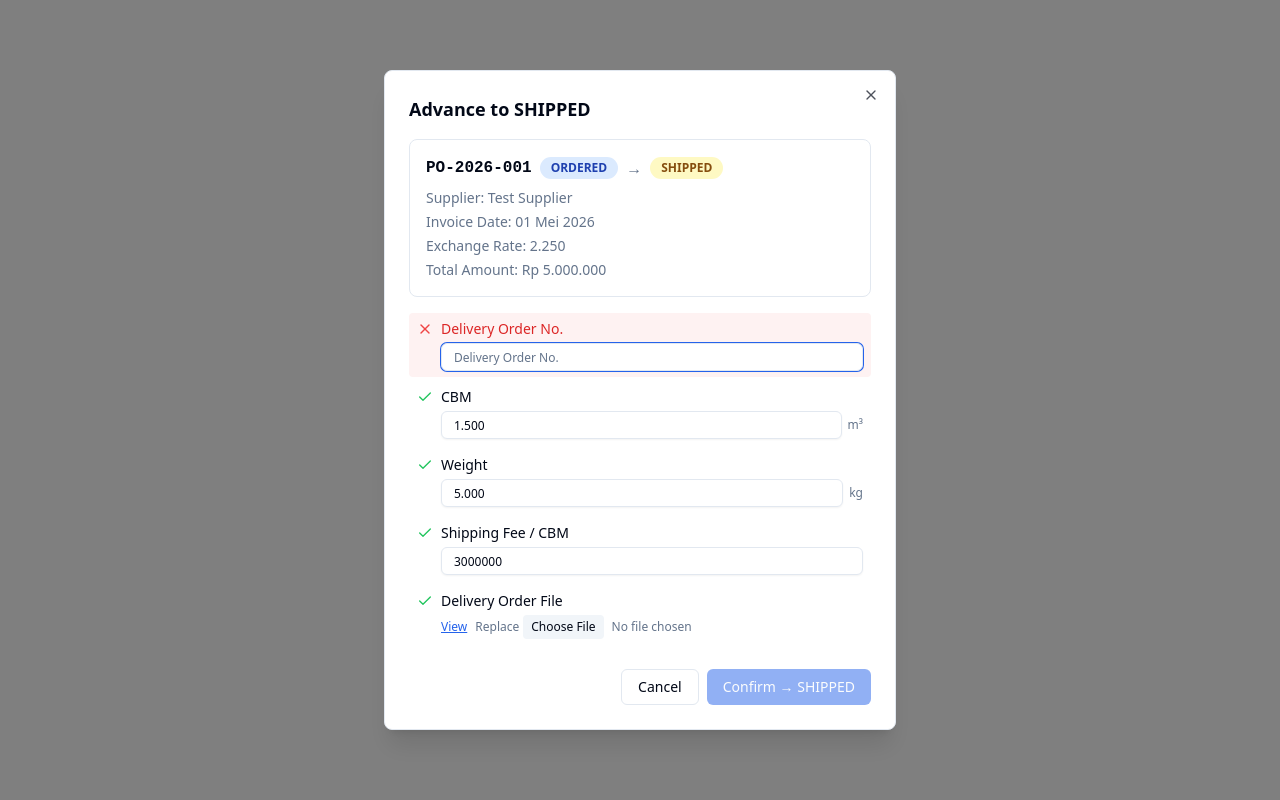
Test case: Confirm button enabled after filling missing fields
Expected: the button "Confirm → SHIPPED" is disabled, [707,669,871,705]
Type "DO-001" into the field with placeholder "Delivery Order No." at (652, 357), box [441,343,863,371]
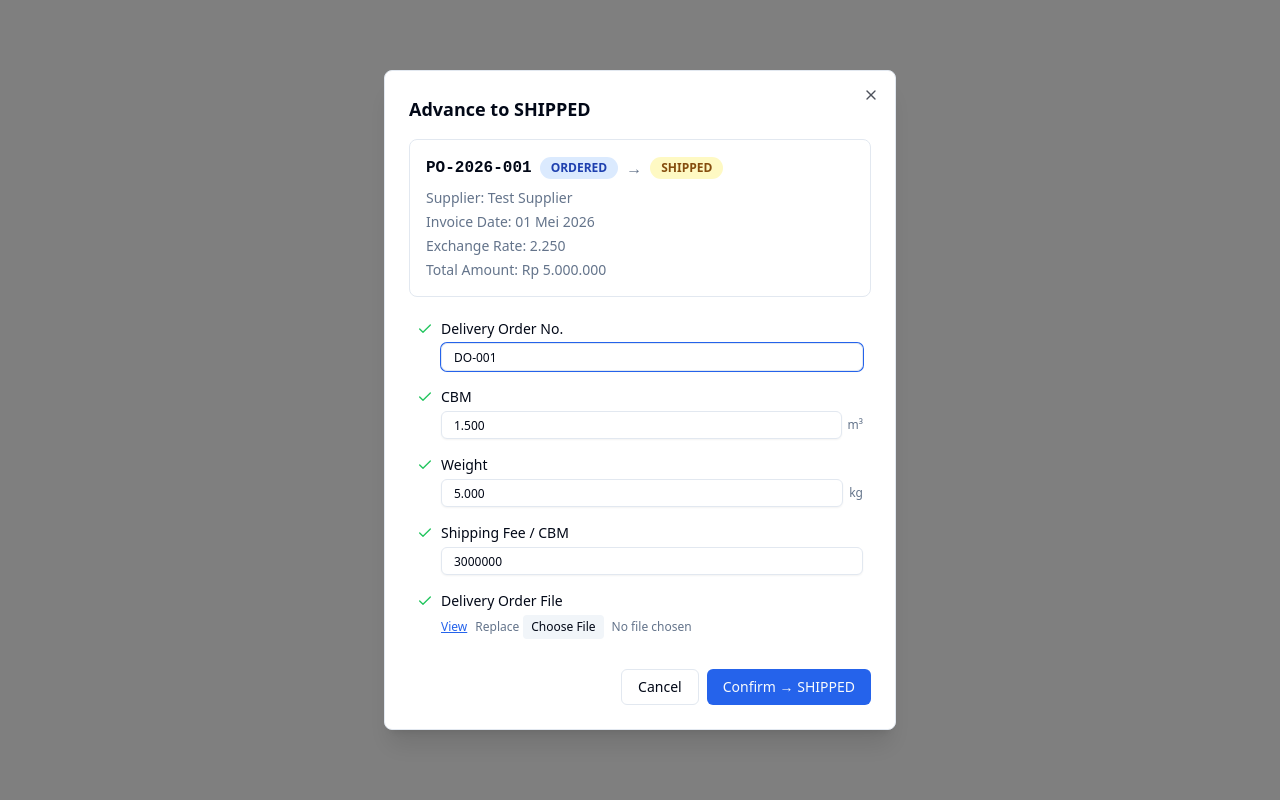
Now the button "Confirm → SHIPPED" is enabled, box [707,669,871,705]
